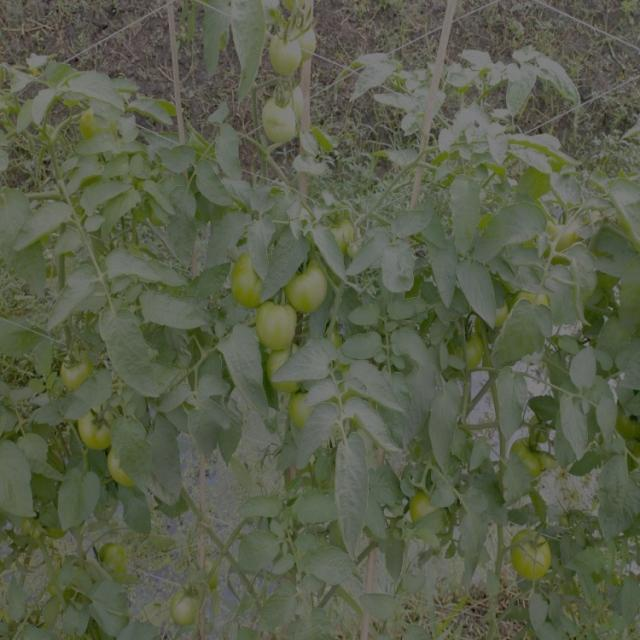tomato: (506, 524, 562, 583), (262, 22, 324, 73), (255, 86, 307, 142), (231, 249, 271, 307), (258, 301, 301, 353), (290, 261, 332, 313), (73, 405, 120, 450), (323, 210, 367, 258), (283, 387, 325, 433), (452, 327, 493, 374), (60, 349, 101, 396), (512, 430, 552, 475), (167, 583, 204, 631), (105, 450, 146, 493), (263, 346, 301, 390), (79, 104, 119, 143), (549, 207, 584, 246), (407, 487, 437, 528), (99, 540, 133, 574), (519, 284, 551, 316), (485, 288, 512, 324)
